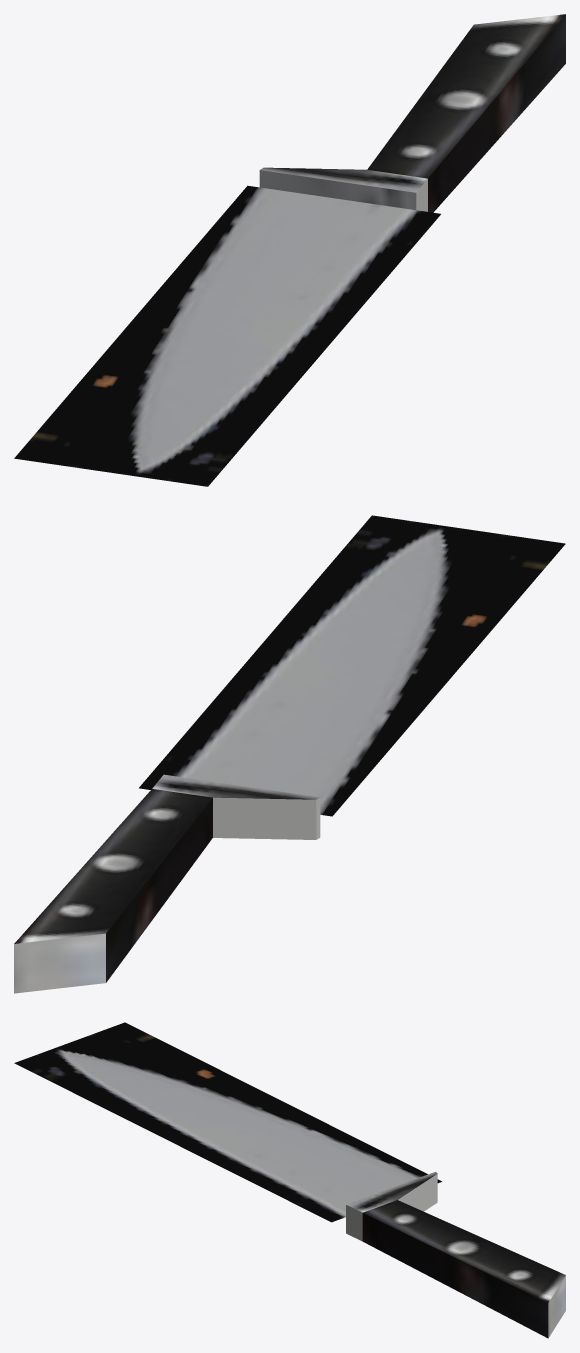
The picture shows the model from 3 angles, top to bottom: view 1: azimuth 30°, elevation 25°; view 2: azimuth 210°, elevation 25°; view 3: azimuth 270°, elevation 25°; orthographic projection. The views are drawn at different scales.
Visible parts, largest first — view 1: Knife_05002_Cutlery002_0; view 2: Knife_05002_Cutlery002_0; view 3: Knife_05002_Cutlery002_0.
Boxes of the visible parts, x1,y1,x2,y2 form: Knife_05002_Cutlery002_0: (14,14,565,486); Knife_05002_Cutlery002_0: (14,515,565,993); Knife_05002_Cutlery002_0: (14,1022,565,1338).
Size of the model in its own units: 0.5356 by 0.03 by 0.4213.
1 material, 1 textured.
